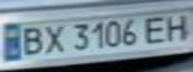0: (103, 17, 124, 48)
1: (87, 19, 109, 49)
3: (66, 20, 90, 52)
6: (121, 16, 145, 47)
B: (15, 24, 48, 57)
E: (139, 12, 172, 45)
H: (160, 11, 193, 42)
X: (39, 21, 69, 55)
